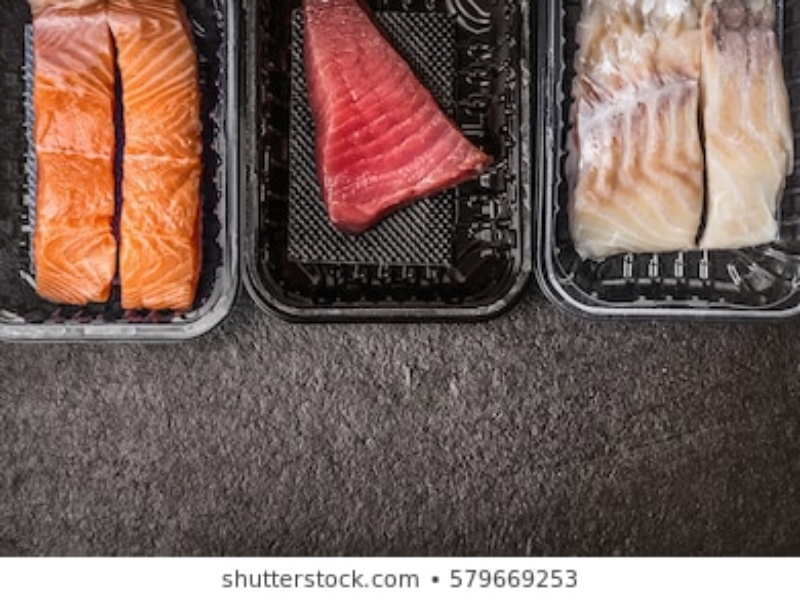plastic-tray: (248, 3, 542, 331), (541, 1, 800, 321), (1, 3, 238, 338)
